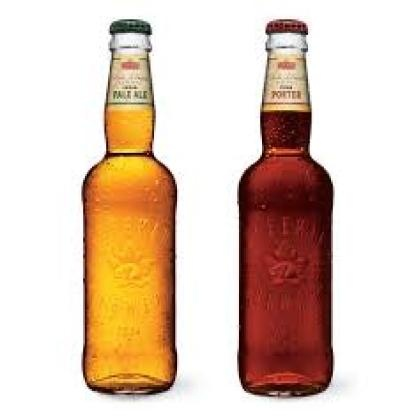trash: (239, 19, 332, 395), (83, 19, 176, 392)
